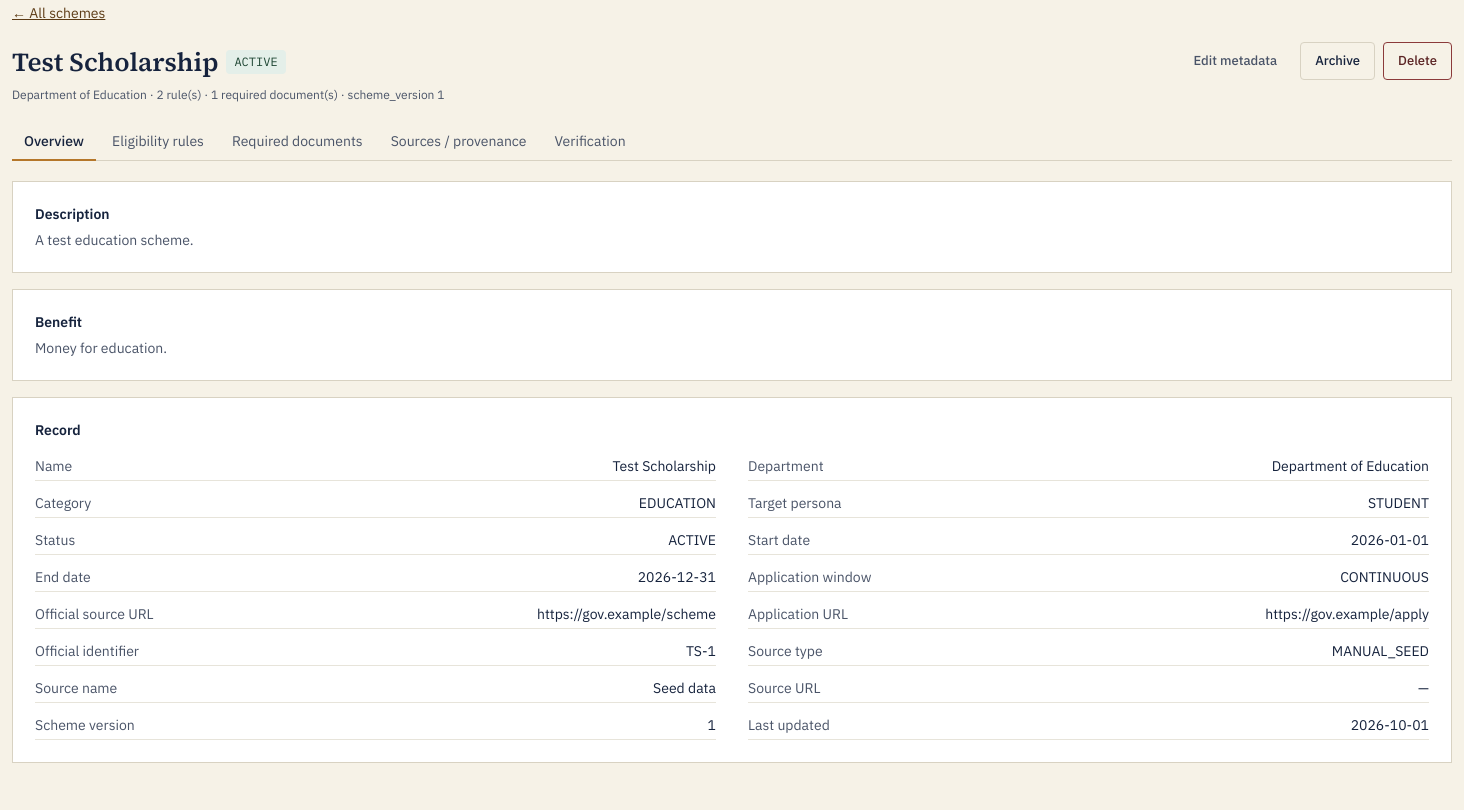
Scenario: documents tab › lists requirements using only the existing type vocabulary
Expected: the heading "Test Scholarship" is shown, [12,42,218,83]
Click the button "Required documents": x=297, y=142 [220,123,375,161]
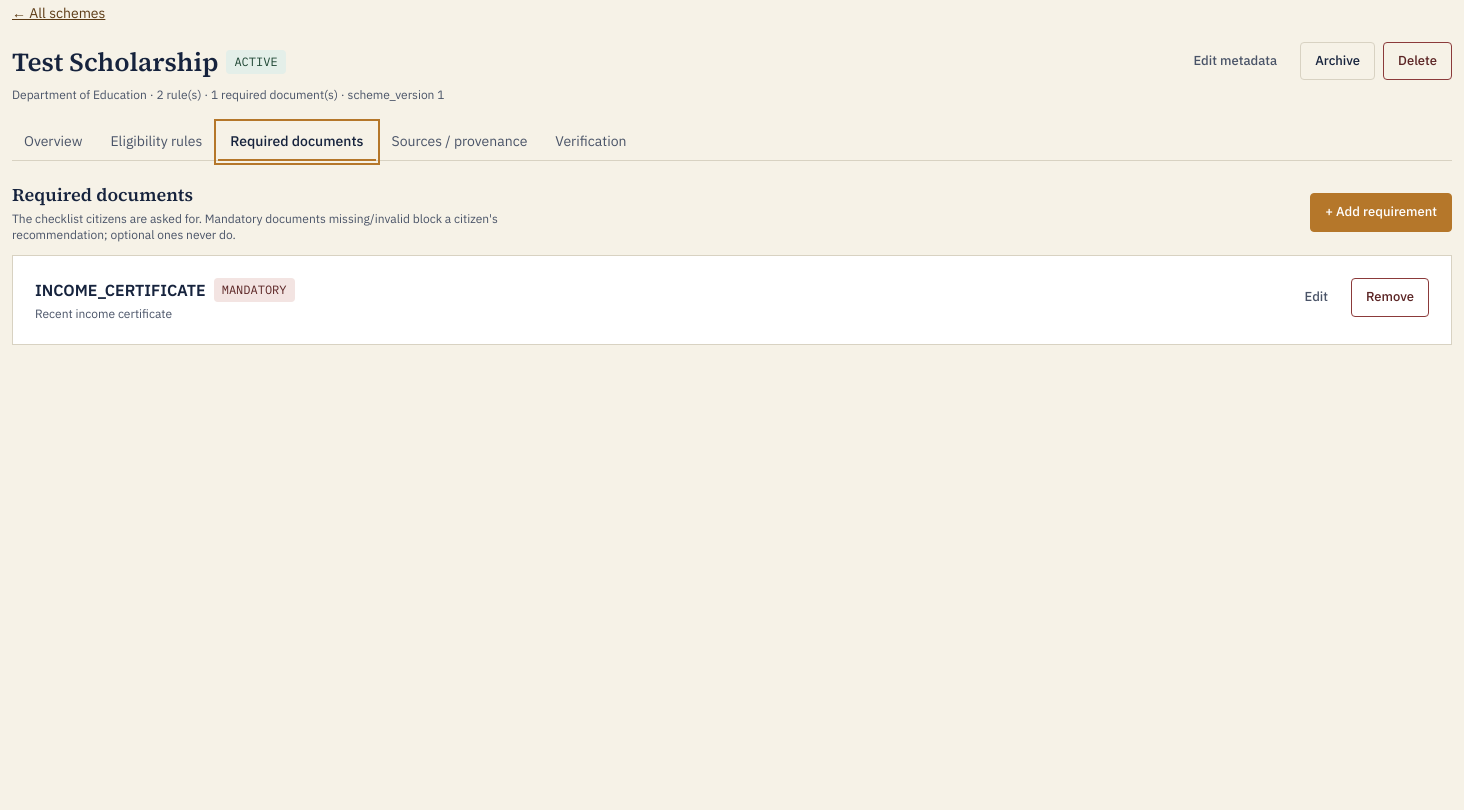
Result: the heading "INCOME_CERTIFICATE" is shown at [35,278,206,302]
Result: the text "MANDATORY" is shown at [214,278,294,302]
Result: the text "Mandatory documents" is shown at [12,211,498,242]
